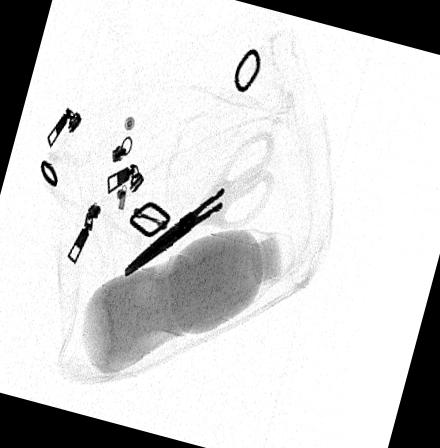Scissors: (122, 128, 275, 278)
